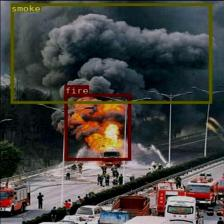fire: (64, 94, 130, 160)
smoke: (10, 2, 212, 104)
